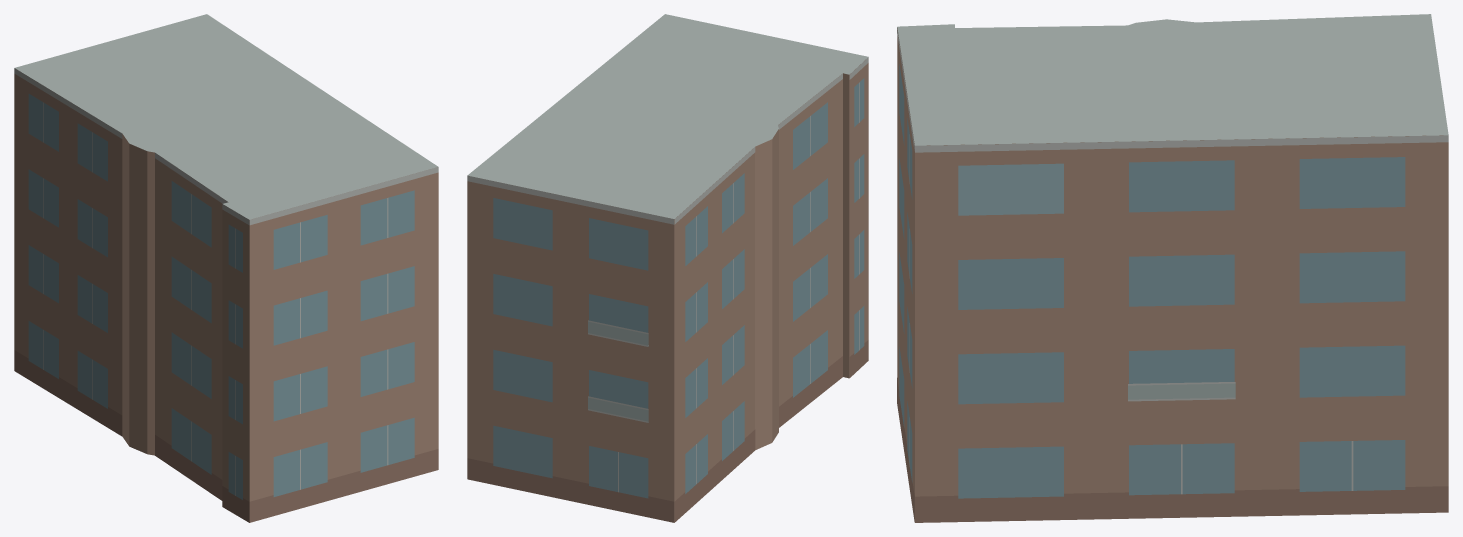
File: survey-upis-32629257.glb
The picture shows the model from 3 angles, left to right: view 1: azimuth 30°, elevation 25°; view 2: azimuth 150°, elevation 25°; view 3: azimuth 270°, elevation 25°; orthographic projection. The views are drawn at different scales.
Parts seen in each view (by area): view 1: survey-upis-32629257.tmp; view 2: survey-upis-32629257.tmp; view 3: survey-upis-32629257.tmp.
Boxes of the visible parts, box(x1,y1,x2,y2) form: survey-upis-32629257.tmp: box(14, 14, 438, 522); survey-upis-32629257.tmp: box(467, 14, 868, 522); survey-upis-32629257.tmp: box(897, 14, 1448, 522).
Size of the model in its own units: 9.89 by 13.2 by 17.5.
